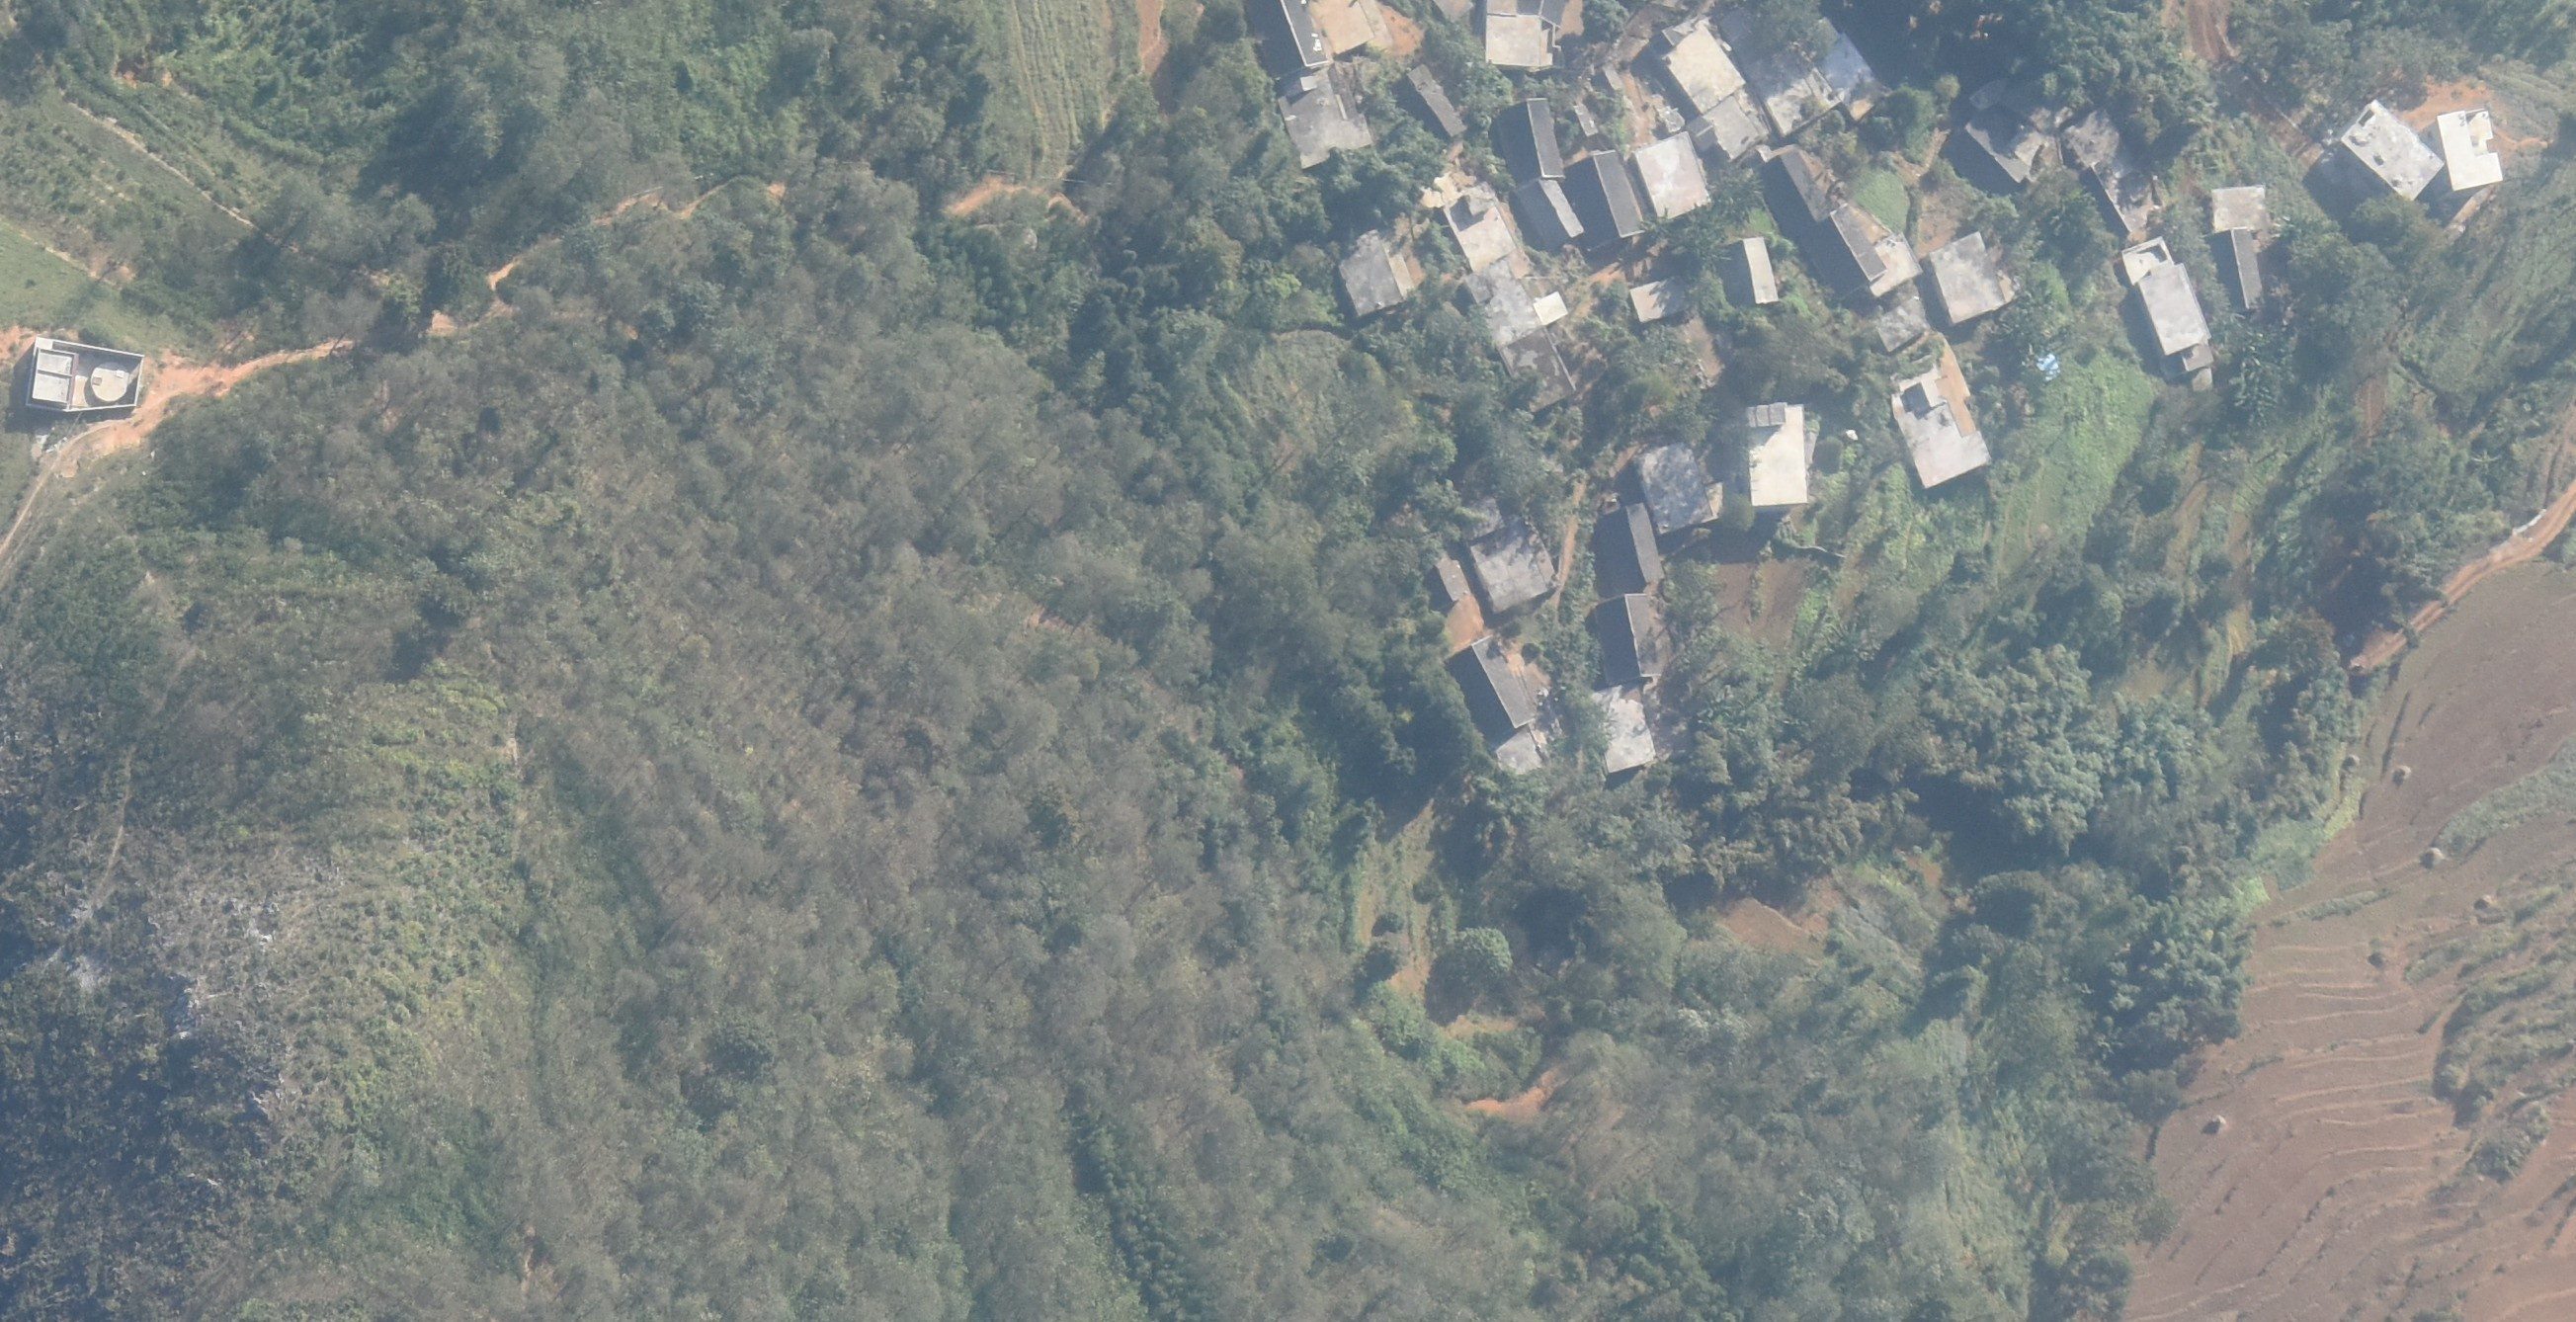building: (1462, 261, 1578, 411), (1885, 330, 1993, 489), (1716, 3, 1839, 135), (2123, 238, 2212, 374), (2065, 110, 2165, 229), (1457, 496, 1549, 614), (2345, 96, 2446, 202), (1650, 15, 1747, 111), (1276, 73, 1371, 169), (1448, 636, 1534, 739), (1969, 78, 2045, 185), (1804, 204, 1885, 298), (1568, 147, 1644, 246), (1927, 231, 2008, 324), (1632, 133, 1713, 224), (1637, 442, 1715, 536), (1586, 681, 1659, 772), (1745, 401, 1809, 504), (1816, 32, 1888, 121), (1441, 182, 1516, 268), (1758, 148, 1827, 239), (1339, 234, 1414, 317), (1597, 594, 1662, 686), (1251, 2, 1327, 78), (2436, 110, 2504, 191), (1603, 501, 1664, 588), (1500, 94, 1561, 180), (1519, 174, 1585, 250), (1856, 231, 1922, 297), (1408, 64, 1467, 137), (1485, 15, 1563, 69), (2214, 231, 2264, 312), (1870, 282, 1927, 351), (1725, 236, 1779, 309), (1701, 94, 1760, 159), (1630, 273, 1691, 322), (2210, 185, 2269, 231), (1438, 560, 1465, 600), (30, 376, 71, 400), (35, 352, 72, 376)
well: (91, 361, 128, 403)
